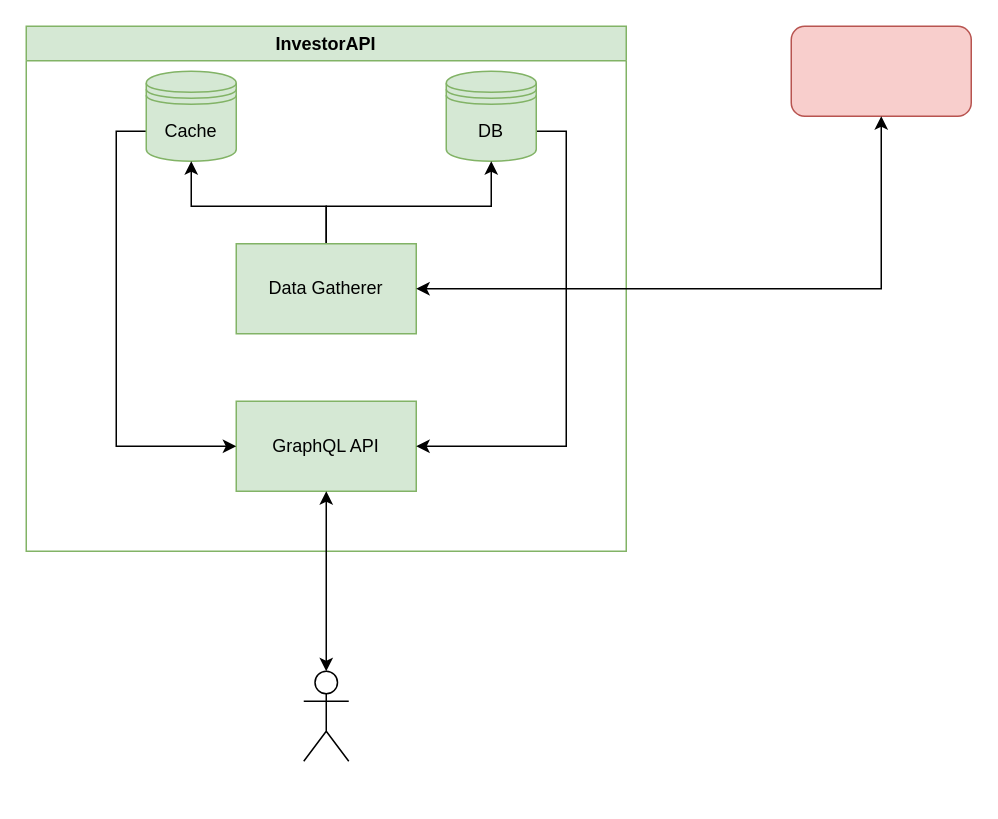
Some shapes in this 998 by 819 pixel diagram are drawn without their labels. The centre of each missing label's shape, as x and y in pixels:
"Client" goes at (x=325, y=715).
"Investors.com" goes at (x=880, y=70).
